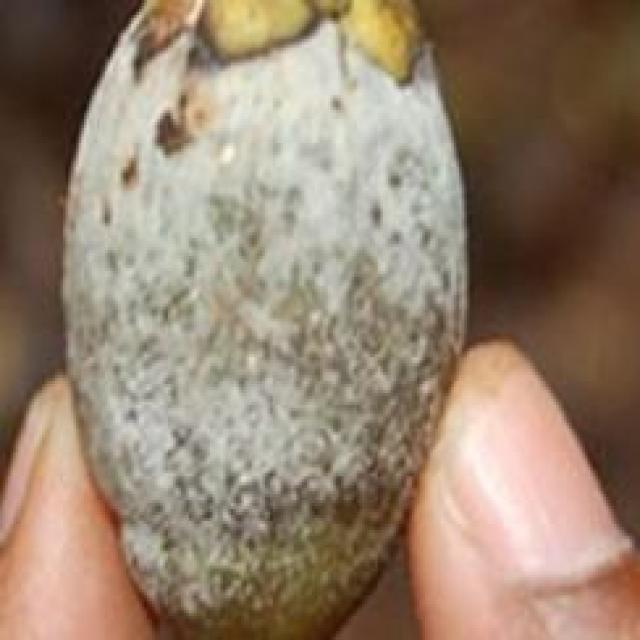damaged: (66, 0, 464, 637)
